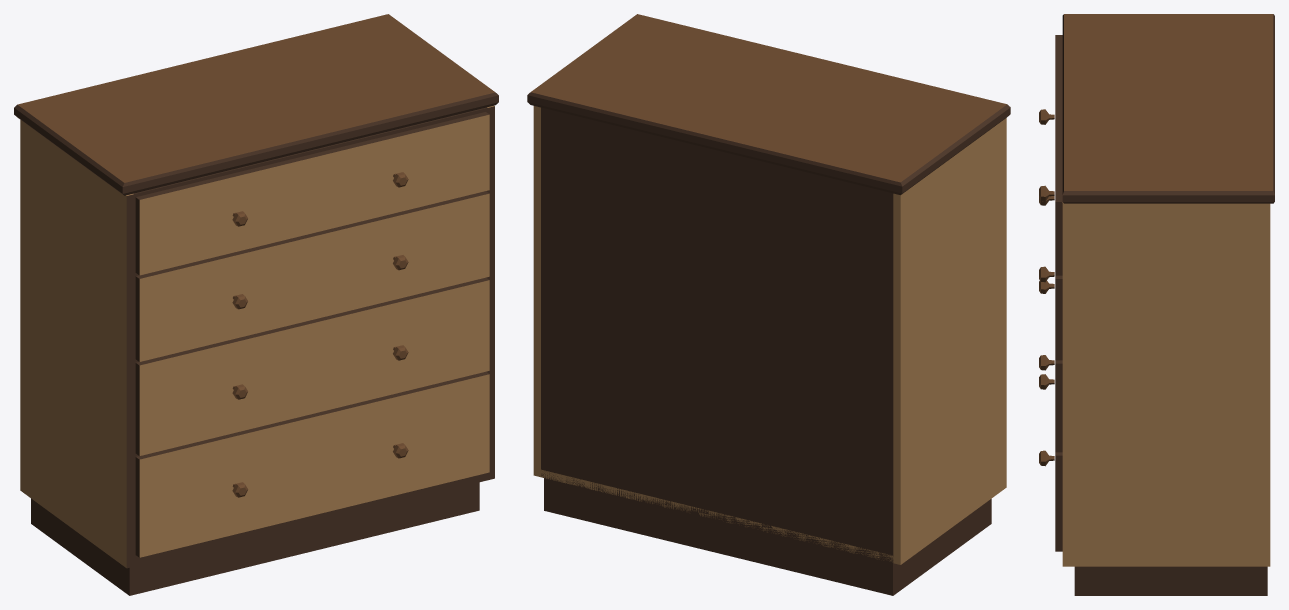
File: FN_Chest_Drawers.obj
The picture shows the model from 3 angles, left to right: view 1: azimuth 30°, elevation 25°; view 2: azimuth 150°, elevation 25°; view 3: azimuth 270°, elevation 25°; orthographic projection. The views are drawn at different scales.
Parts seen in each view (by area): view 1: FN_Chest_Drawers; view 2: FN_Chest_Drawers; view 3: FN_Chest_Drawers.
Part boxes in pixels (x1,y1,x2,y2): FN_Chest_Drawers: (14,14,498,595); FN_Chest_Drawers: (527,14,1010,595); FN_Chest_Drawers: (1039,14,1274,595).
Size of the model in its own units: 0.92 by 0.98 by 0.511.
1 material, 1 textured.
